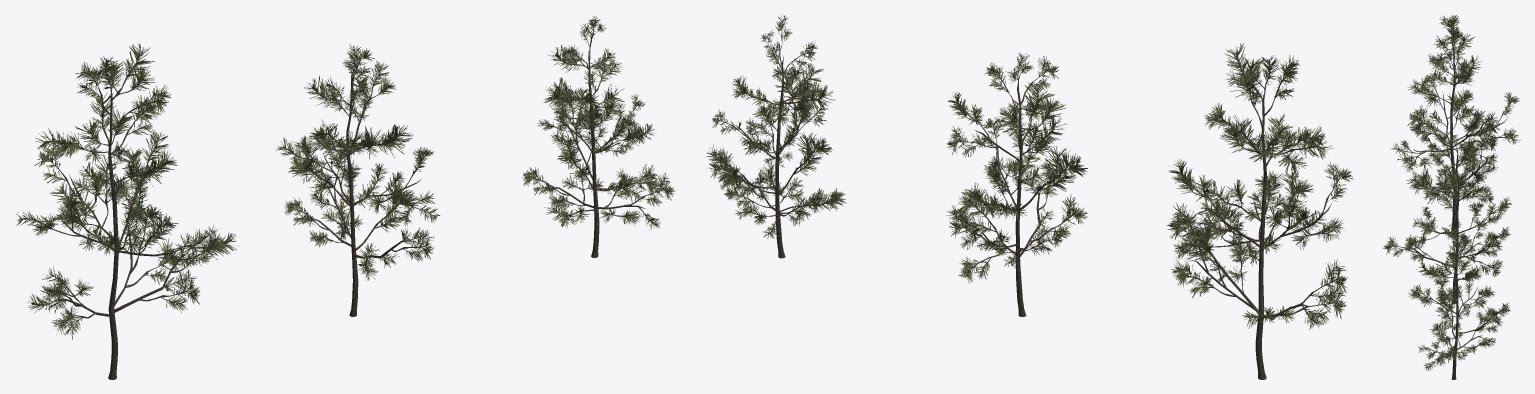
Rendered from pine.glb.
The picture shows the model from 3 angles, left to right: view 1: azimuth 30°, elevation 25°; view 2: azimuth 150°, elevation 25°; view 3: azimuth 270°, elevation 25°; orthographic projection. The views are drawn at different scales.
Visible parts, largest first — view 1: pine_sapling_small_a, pine_sapling_small_b, pine_sapling_small_c; view 2: pine_sapling_small_a, pine_sapling_small_b, pine_sapling_small_c; view 3: pine_sapling_small_a, pine_sapling_small_b, pine_sapling_small_c.
Part boxes in pixels (box(x1,y1,x2,y2)): pine_sapling_small_a: box(16, 43, 239, 379); pine_sapling_small_b: box(276, 44, 439, 316); pine_sapling_small_c: box(522, 16, 675, 257); pine_sapling_small_a: box(1166, 43, 1353, 379); pine_sapling_small_b: box(946, 52, 1087, 316); pine_sapling_small_c: box(705, 14, 846, 258); pine_sapling_small_a: box(1390, 15, 1520, 230); pine_sapling_small_b: box(1383, 133, 1511, 304); pine_sapling_small_c: box(1409, 223, 1510, 379).
Bounding box in the file's own units: 2.64 × 1.3 × 0.7703.
2 materials, 2 textured.
